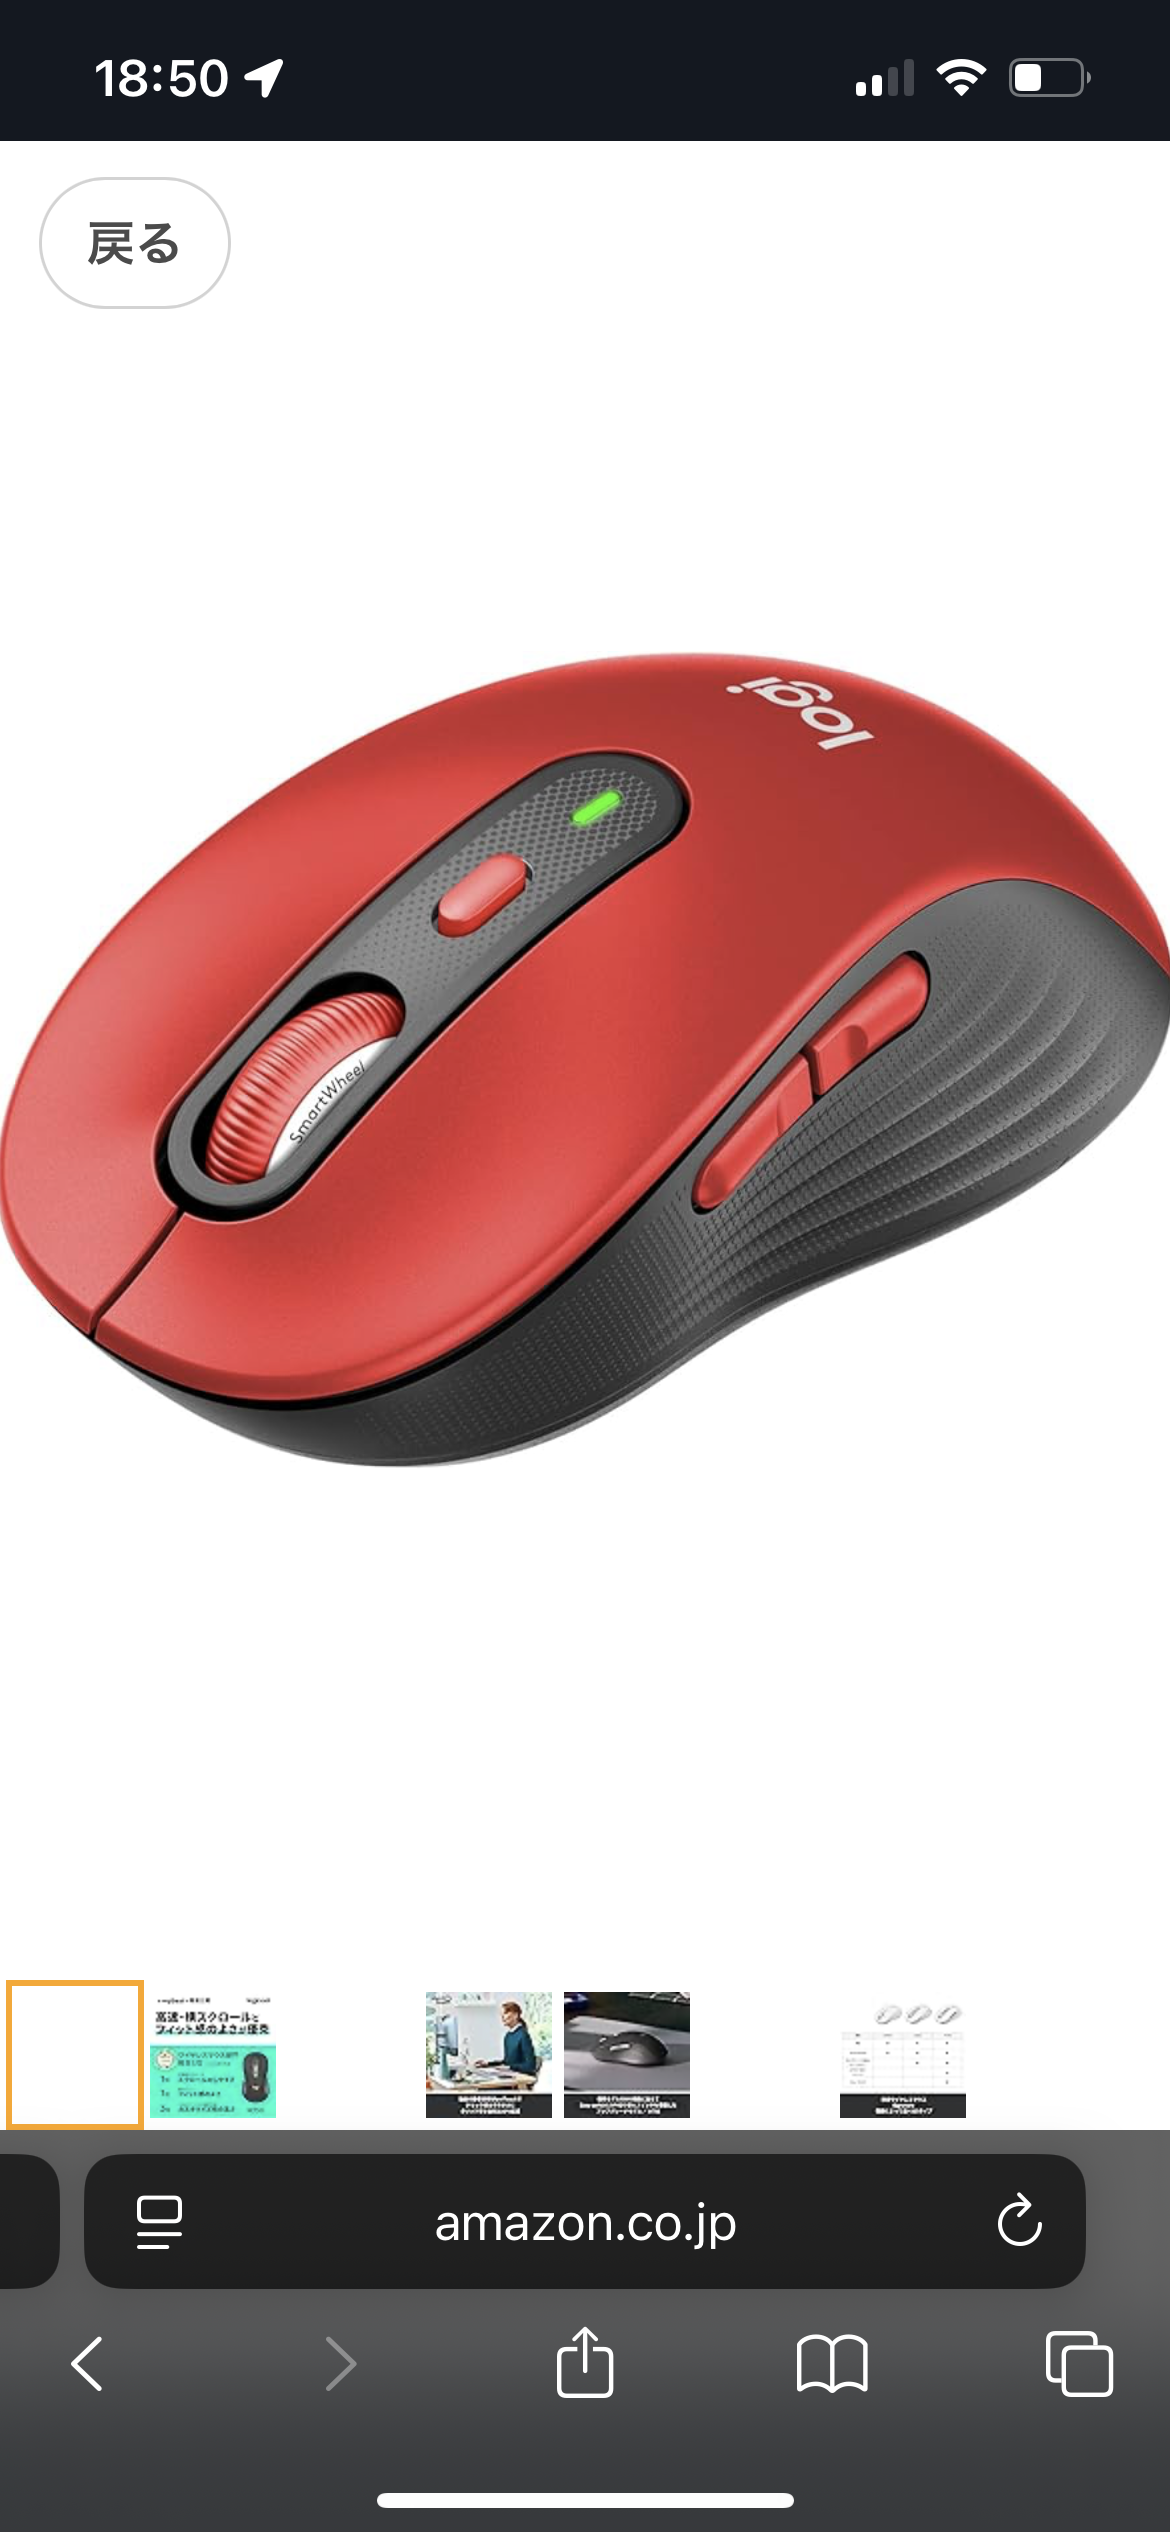mouse: (492, 633, 683, 1478)
